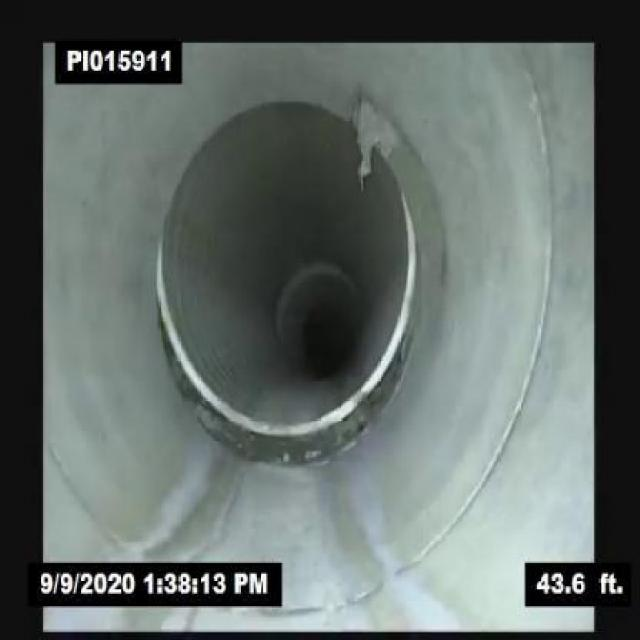Joint offset: (185, 402, 392, 466), (362, 225, 418, 400), (156, 246, 216, 399)
